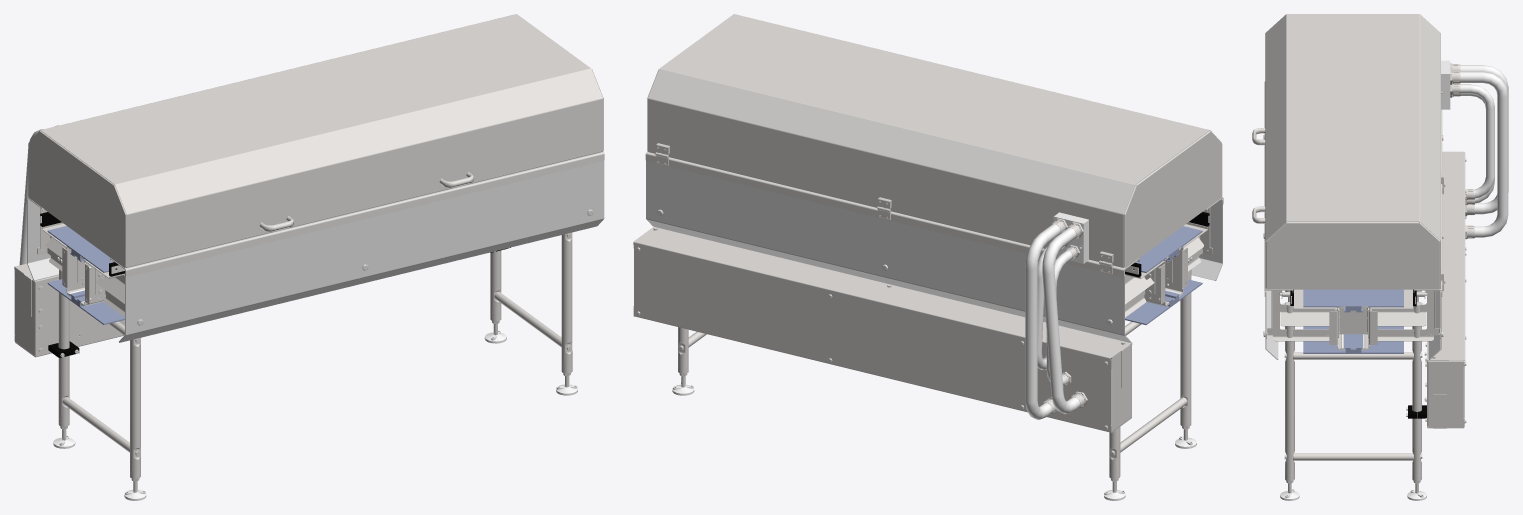
3 renders of one model, left to right at view 1: azimuth 30°, elevation 25°; view 2: azimuth 150°, elevation 25°; view 3: azimuth 270°, elevation 25°, orthographic. The views are drawn at different scales.
Visible parts, largest first — view 1: base, glass; view 2: base, glass; view 3: base, glass.
Boxes of the visible parts, box(x1,y1,x2,y2) form: base: box(14, 14, 604, 500); glass: box(27, 161, 604, 342); base: box(633, 14, 1223, 500); glass: box(646, 161, 1222, 342); base: box(1252, 14, 1508, 500); glass: box(1265, 290, 1441, 359).
Size of the model in its own units: 2 by 1.27 by 1.04.
Materials: 1 (1 with a texture image).
